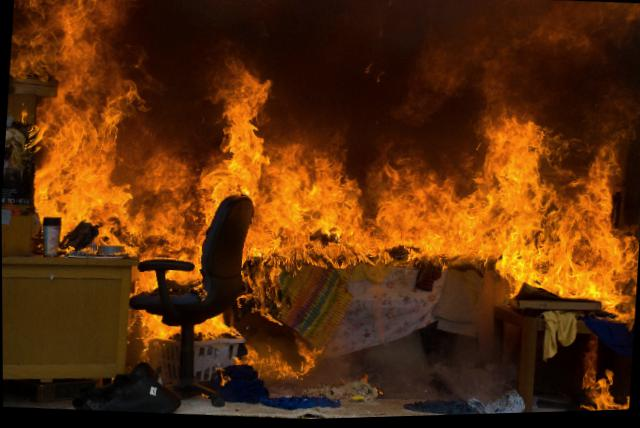fire: (0, 0, 639, 410)
